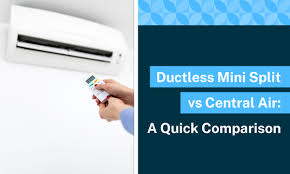ac: (3, 2, 126, 82)
